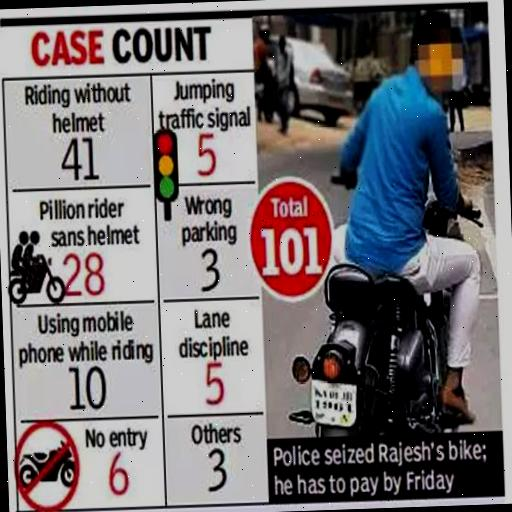no helmet: (294, 0, 483, 178)
number plate: (293, 364, 371, 434)
